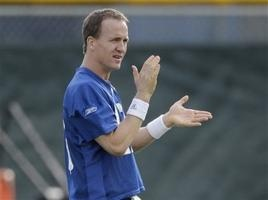person without safety: (58, 7, 162, 200)
